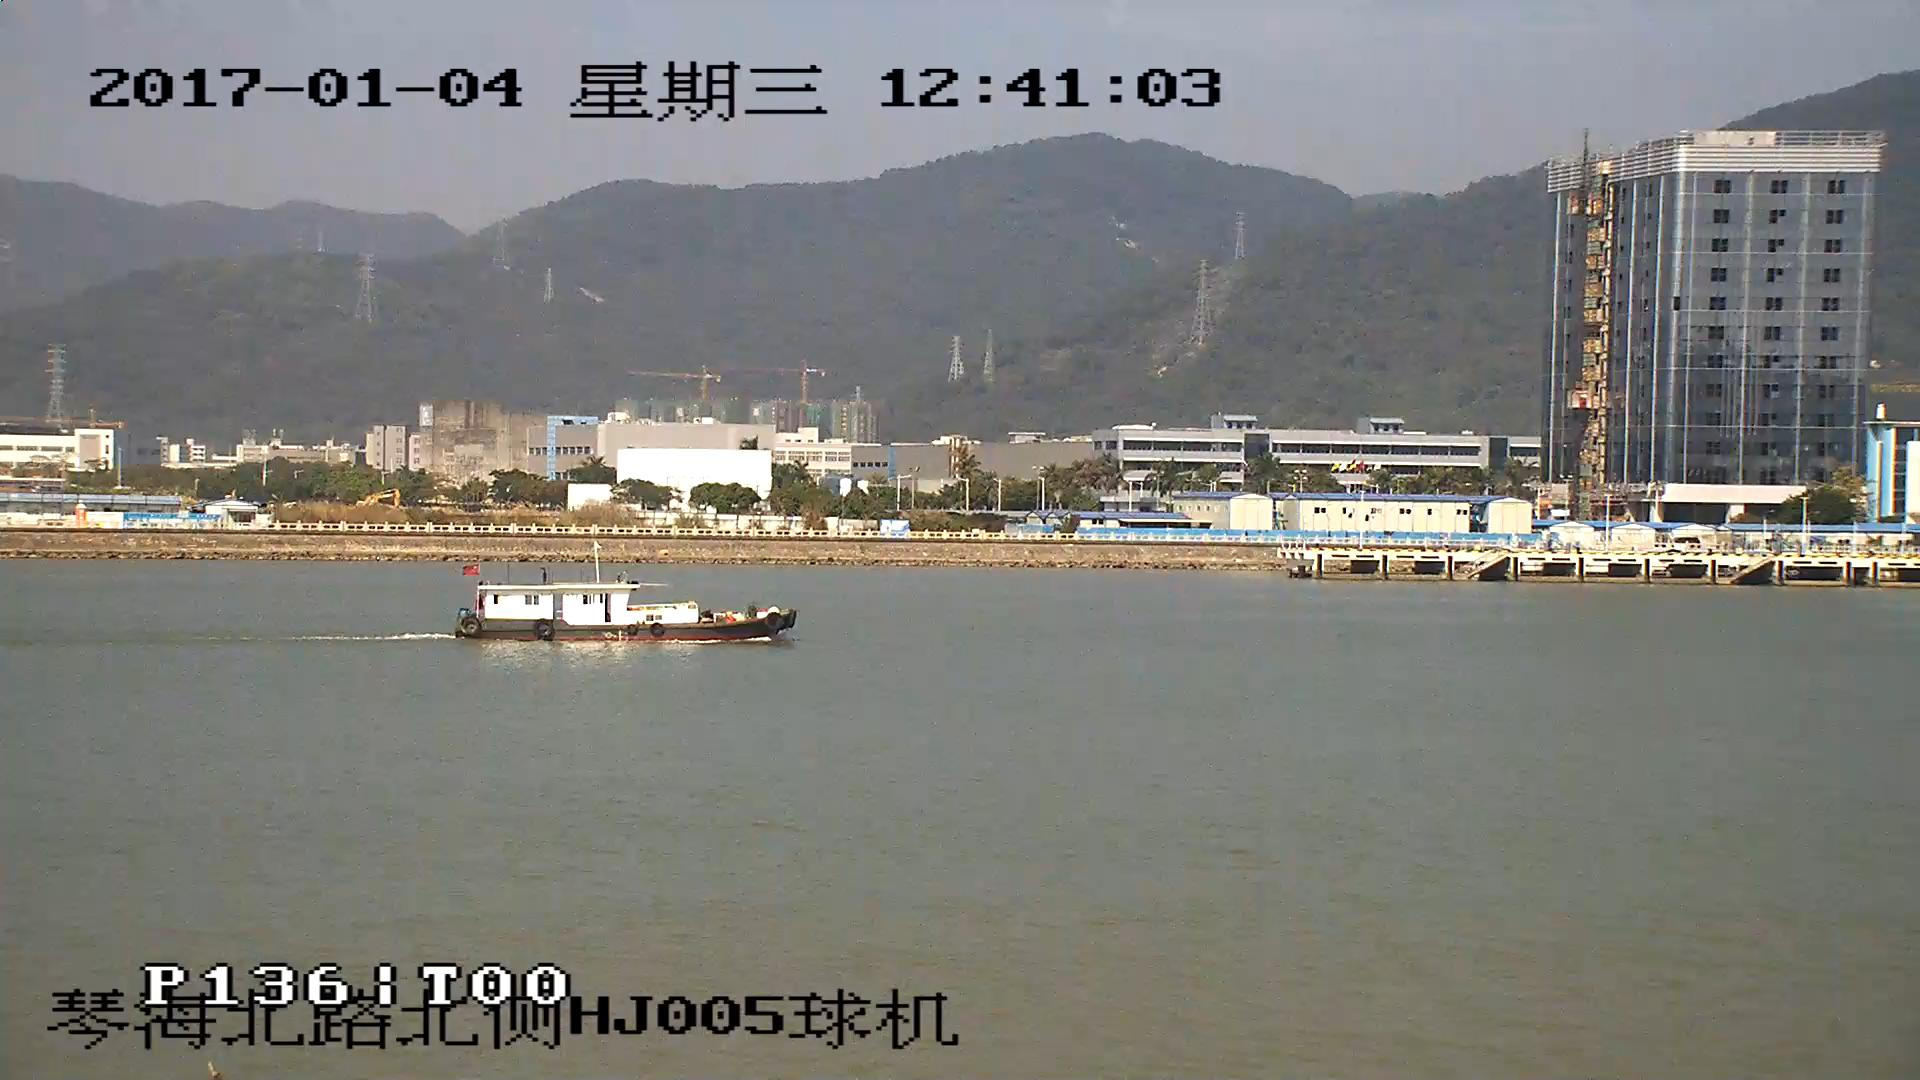fishing boat: (451, 563, 796, 645)
